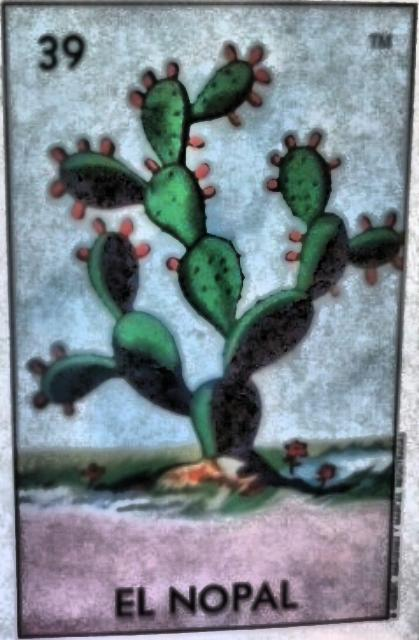El Nopal: (5, 5, 404, 640)
